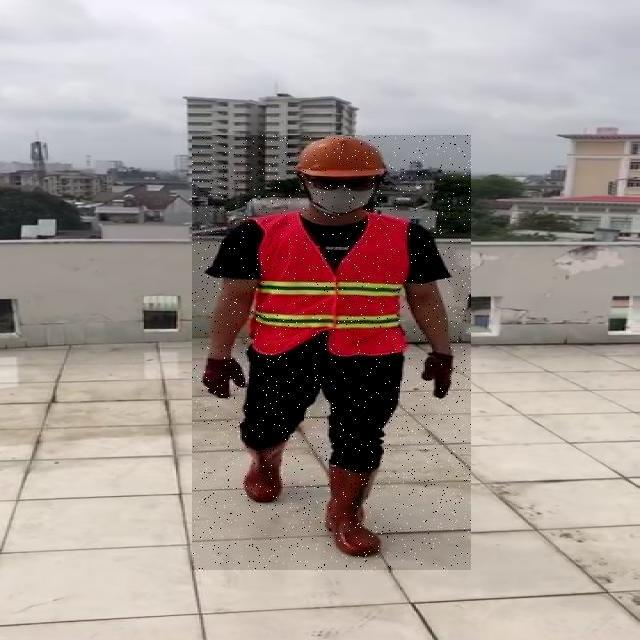Helmet: (295, 137, 389, 183)
Human: (192, 136, 471, 572)
Safety Boot: (327, 467, 384, 560), (235, 445, 289, 505)
Safety Vest: (248, 218, 406, 357)
